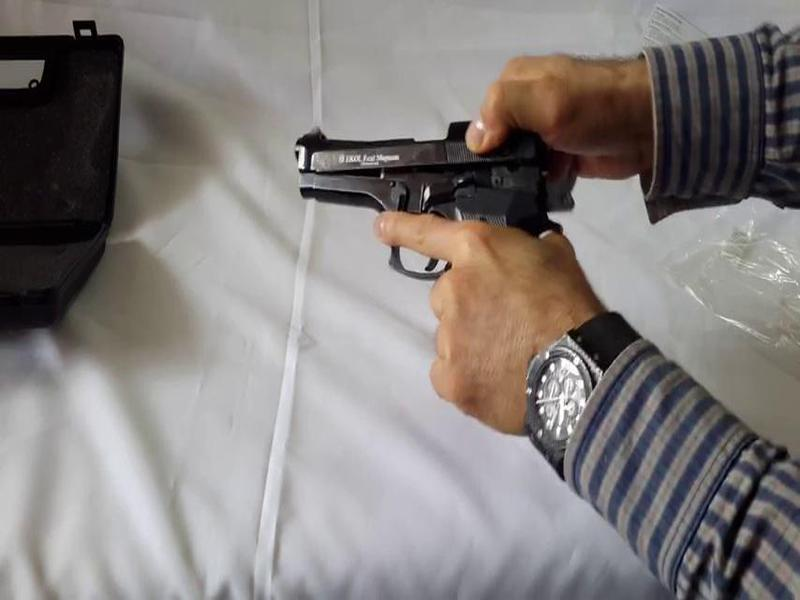Pistola: (274, 99, 564, 349)
